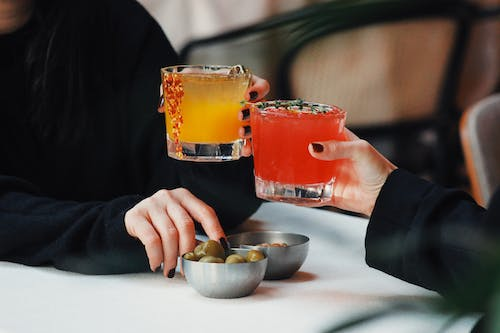alcohol: (249, 99, 348, 206), (161, 64, 253, 162)
